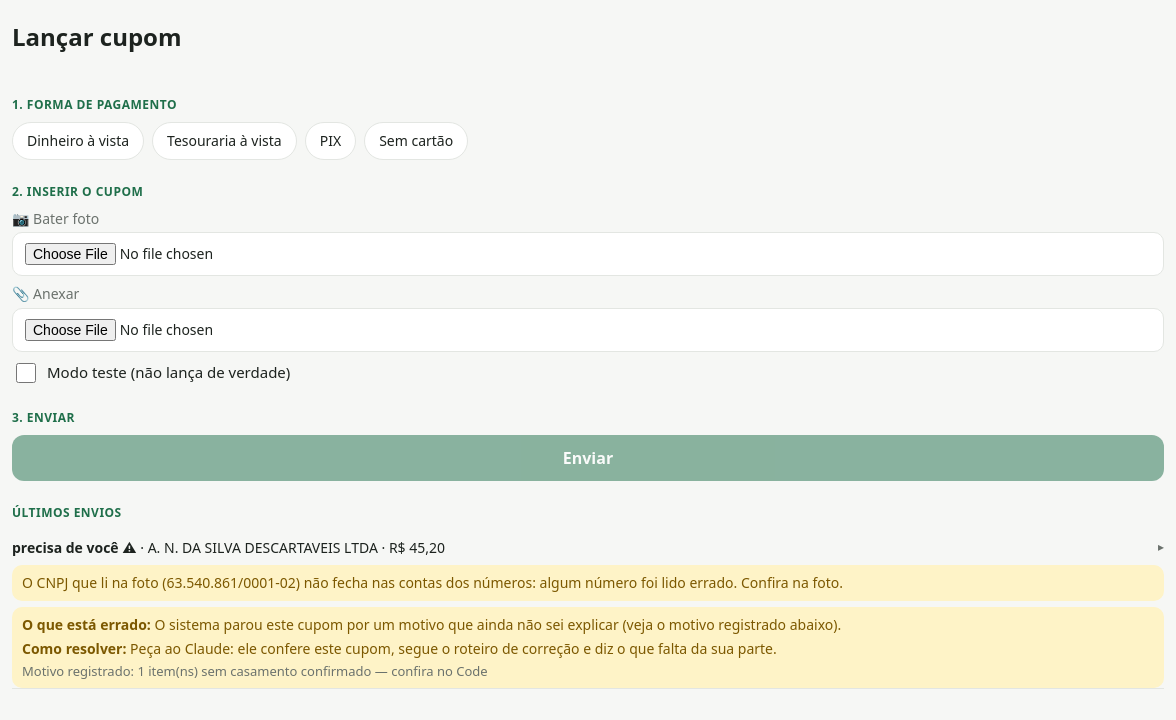
Test: Cupom — cupom parado (precisa de você) com CNPJ lido errado: o aviso aparece SEM abrir o detalhe, para o Ivan ver antes de confirmar os itens › abrindo o detalhe o aviso NÃO dobra: continua um só
Click the button that starts with "precisa de você ⚠".
click(74, 547)  # box [12, 530, 1164, 565]
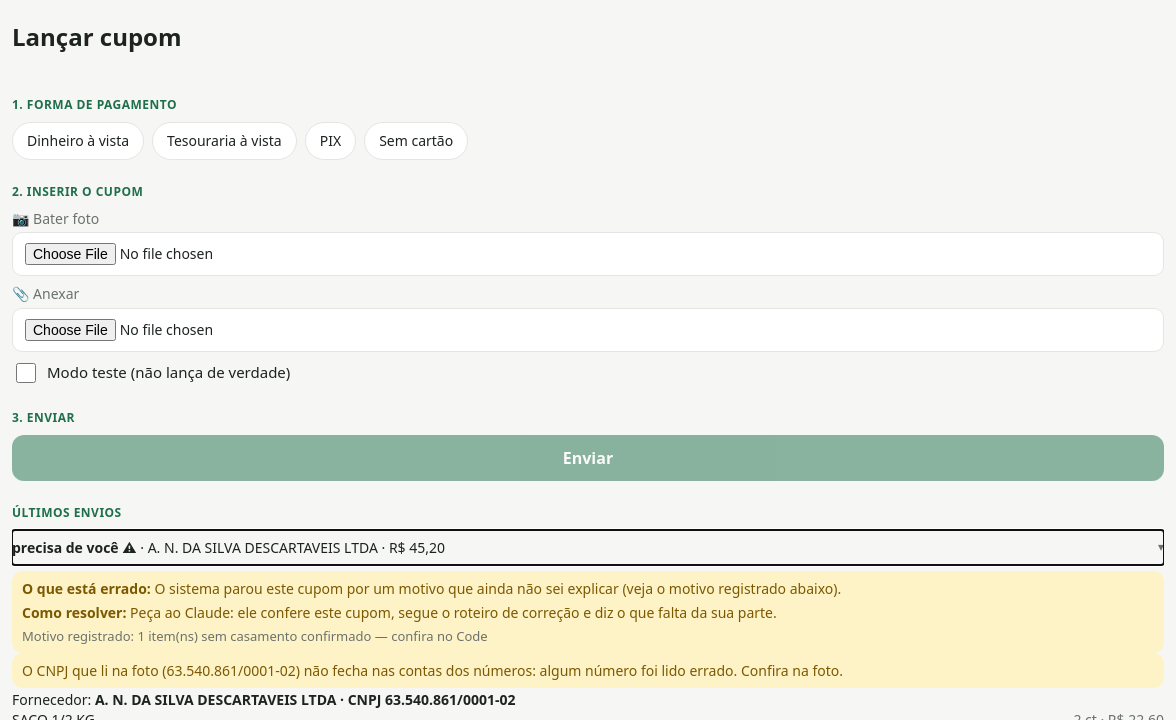
Expected: the number of elements with test id "cnpj-suspeito" is 1, [12, 653, 1164, 688]
Expected: the element with test id "detalhe-fornecedor" is shown, [12, 690, 516, 709]
